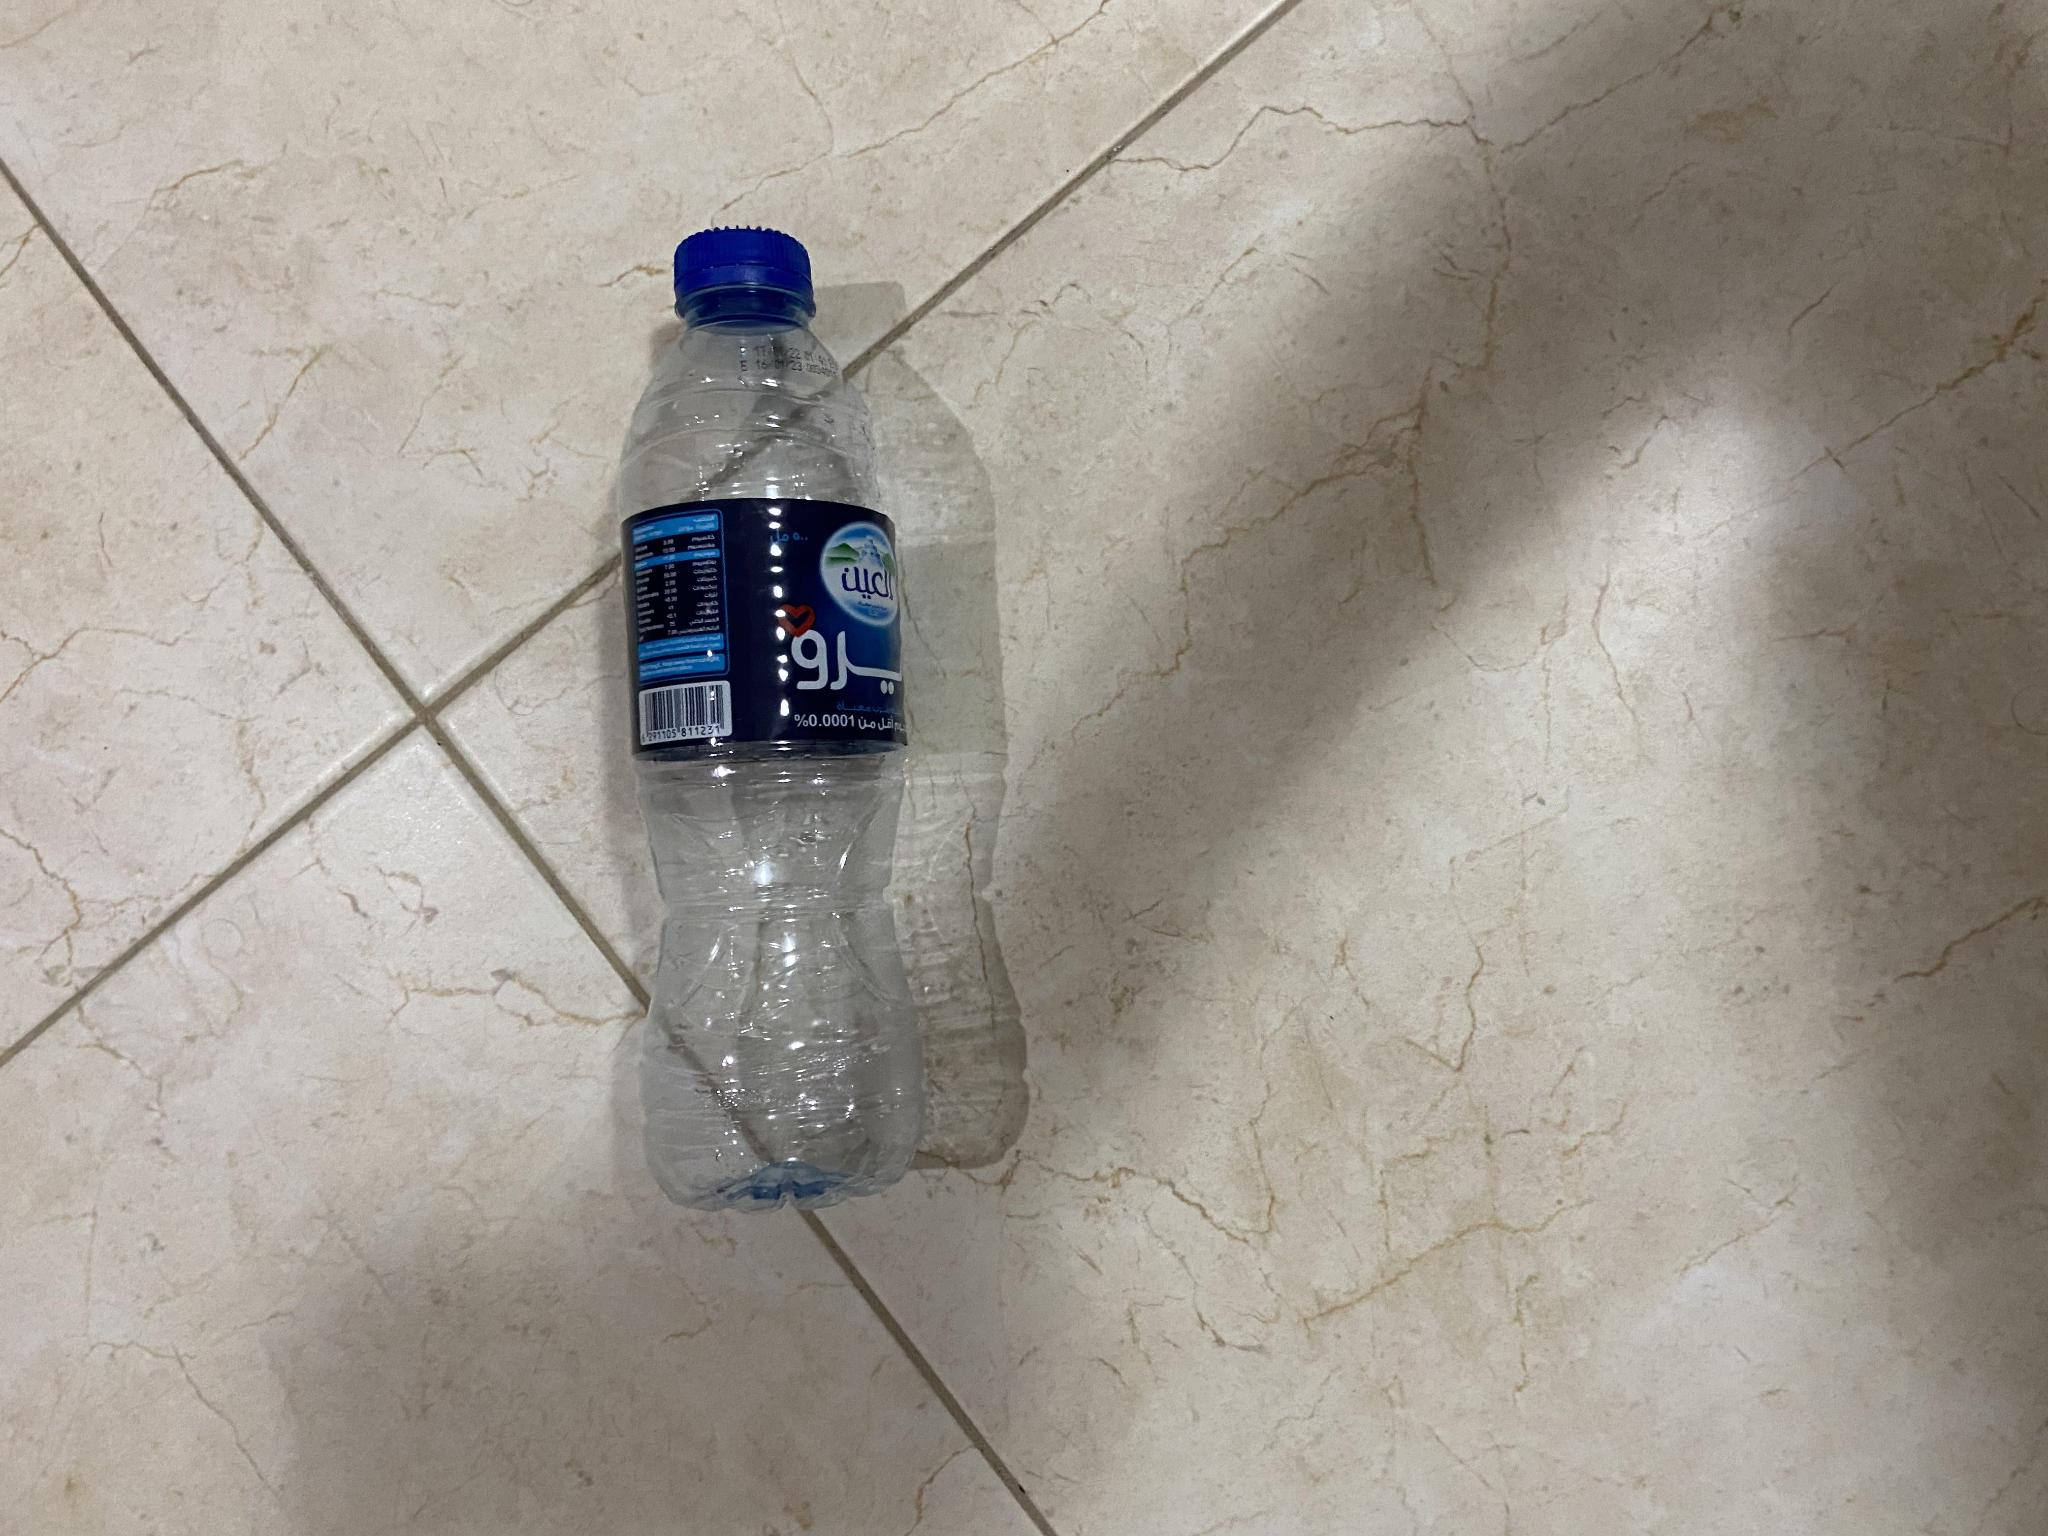bottle: (590, 203, 913, 1221)
